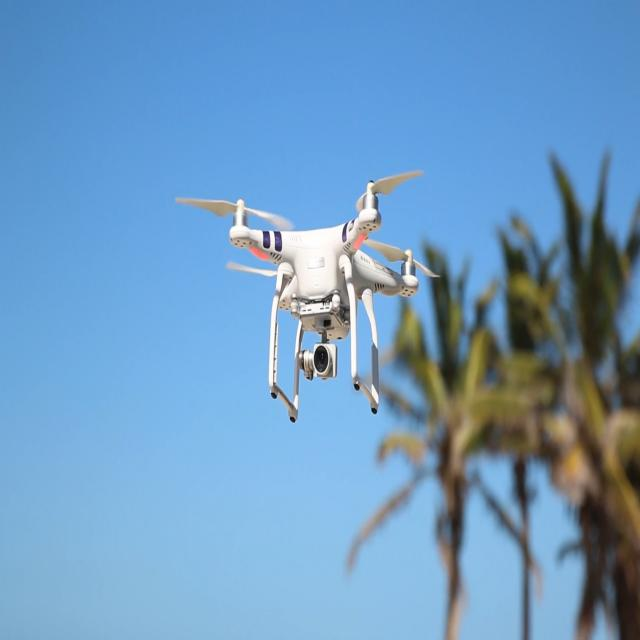Drone: (154, 151, 452, 422)
